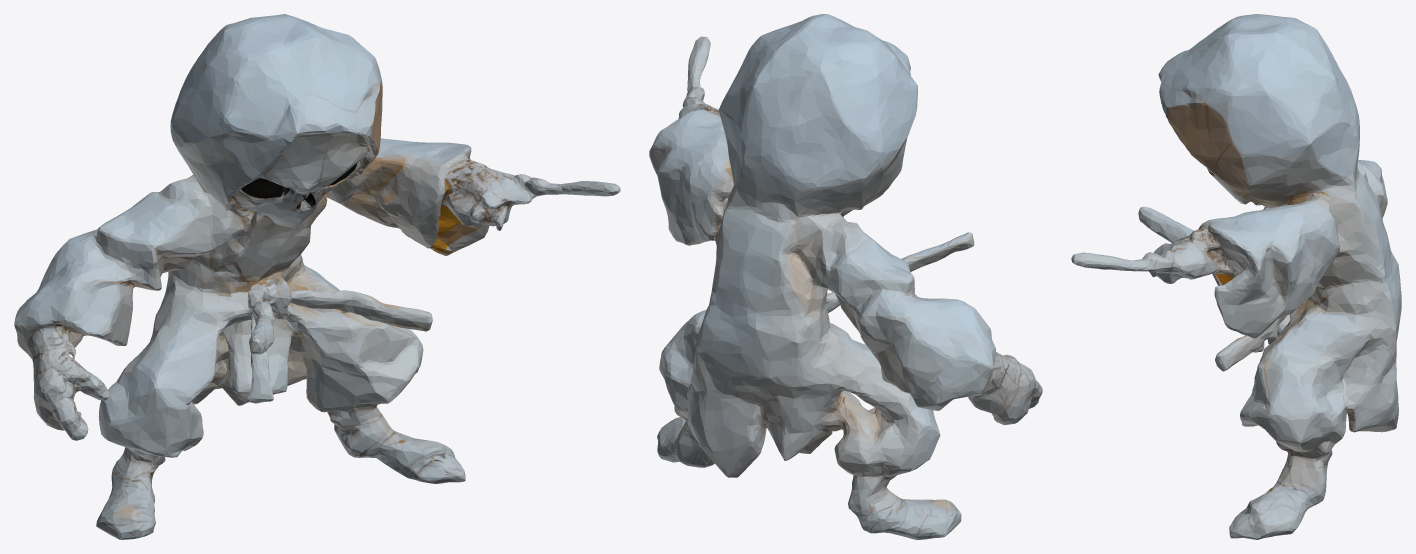
The model's file is Ninja.Skeleton.glb.
The picture shows the model from 3 angles, left to right: view 1: azimuth 30°, elevation 25°; view 2: azimuth 150°, elevation 25°; view 3: azimuth 270°, elevation 25°; orthographic projection. The views are drawn at different scales.
Parts seen in each view (by area): view 1: textured_mesh.obj; view 2: textured_mesh.obj; view 3: textured_mesh.obj.
Boxes of the visible parts, <box> form: textured_mesh.obj: <box>14,14,620,539</box>; textured_mesh.obj: <box>649,14,1042,539</box>; textured_mesh.obj: <box>1071,14,1401,539</box>.
Bounding box in the file's own units: 1.99 × 1.97 × 1.34.
1 material, 1 textured.
